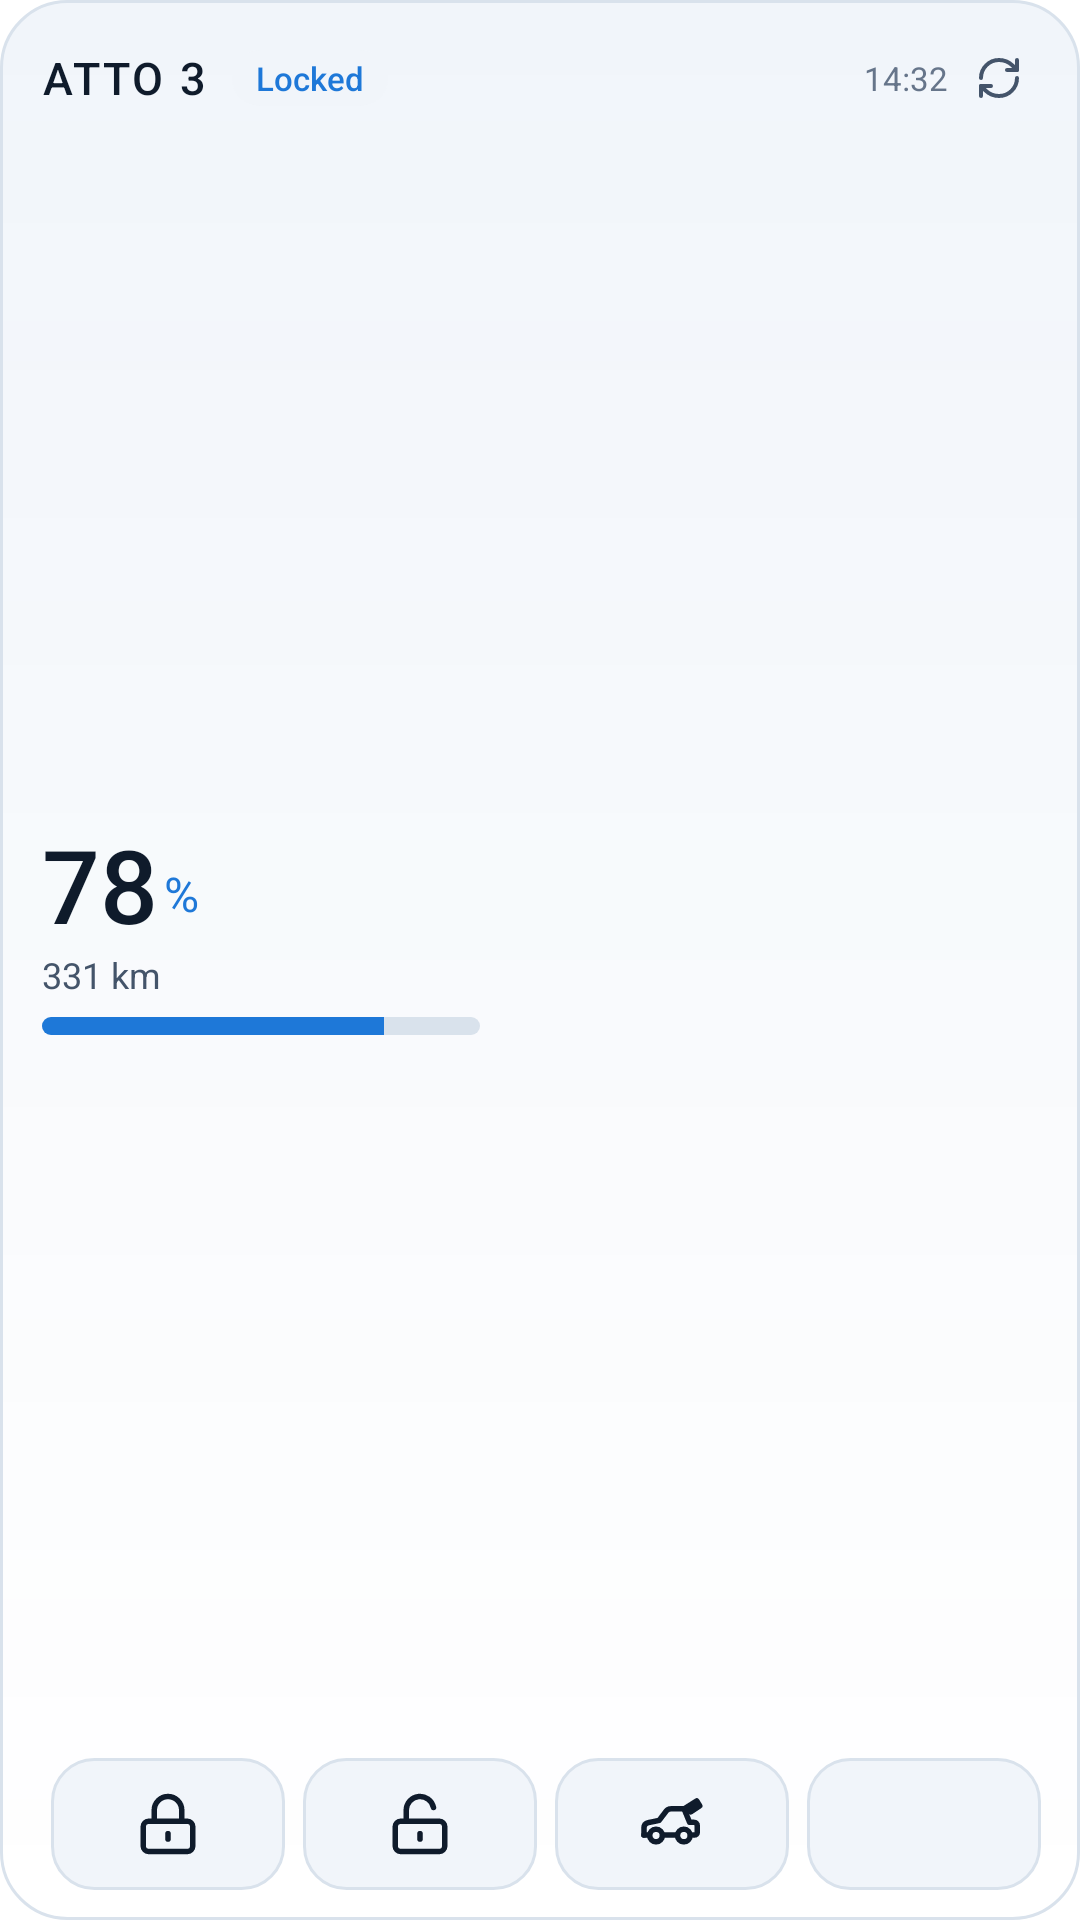

Icon click points for this 1080 x 1920 phone screenshot, format [x,y]:
lock: [168,1824]
Refresh: [999,78]
trunk: [672,1821]
unlock: [420,1824]
